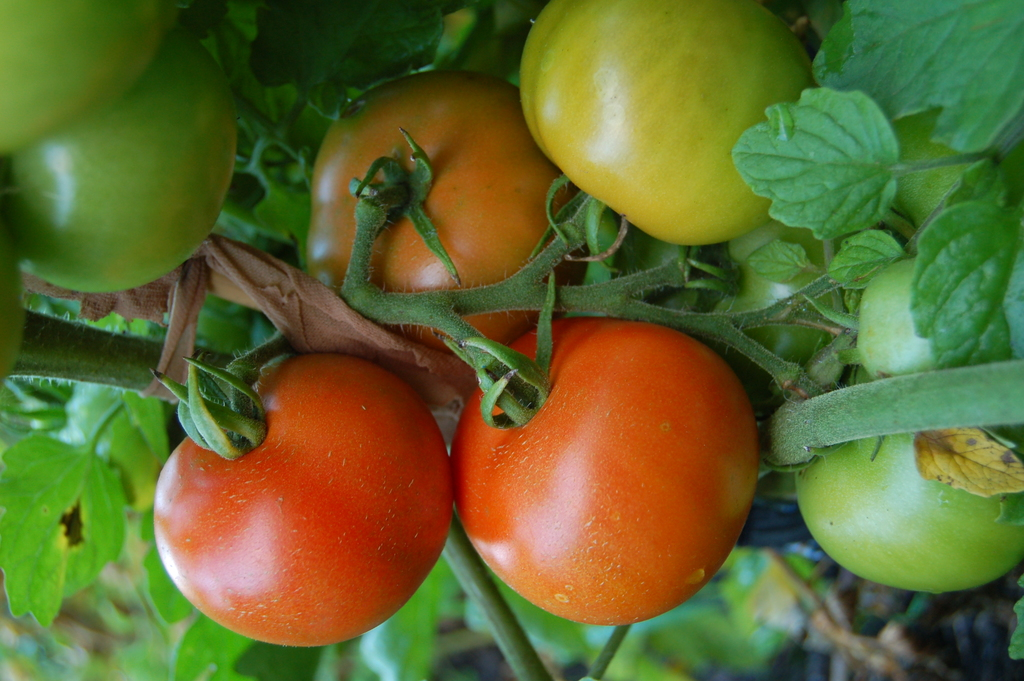Tomato: (448, 317, 762, 626), (153, 356, 451, 646), (307, 68, 563, 369), (520, 0, 814, 242), (0, 0, 234, 293), (791, 436, 1023, 597), (627, 214, 837, 378), (856, 258, 936, 379)
